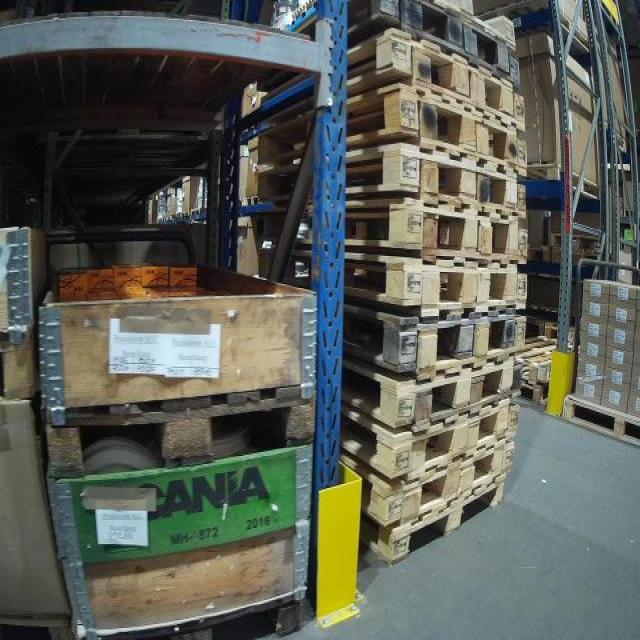pallet: (42, 378, 316, 489), (346, 248, 533, 318), (340, 302, 528, 370), (76, 586, 314, 639), (341, 197, 532, 263), (361, 441, 520, 514), (341, 407, 522, 471), (349, 152, 530, 216), (344, 361, 525, 421), (380, 476, 510, 519), (561, 395, 640, 451), (0, 327, 39, 401)
